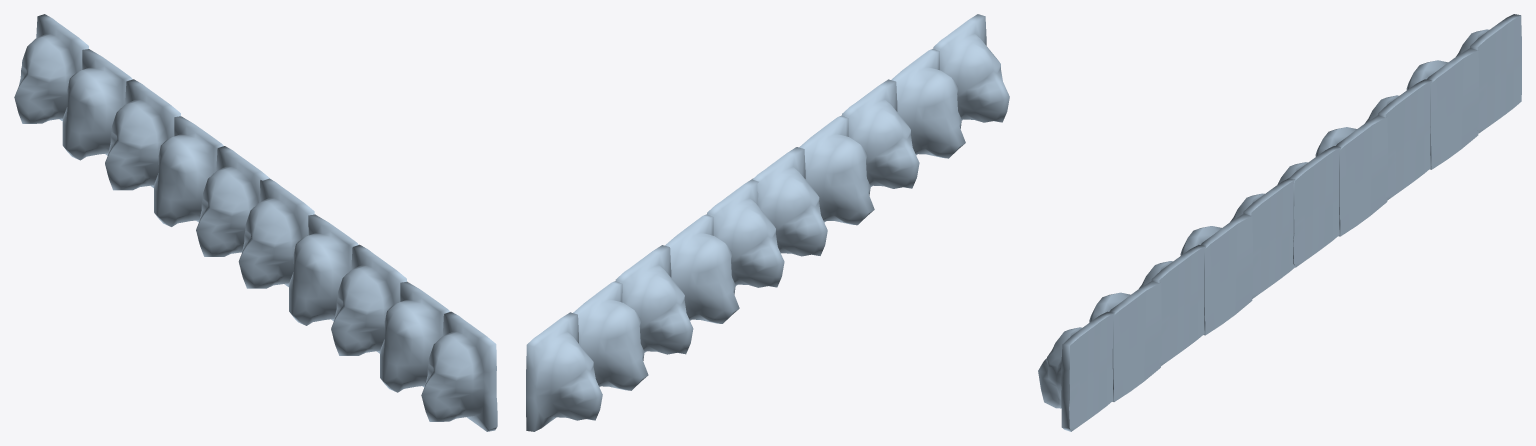
File: Statues_Lign_02B_Lod0.fbx
The picture shows the model from 3 angles, left to right: view 1: azimuth 30°, elevation 25°; view 2: azimuth 150°, elevation 25°; view 3: azimuth 330°, elevation 25°; orthographic projection.
Parts seen in each view (by area): view 1: Statues_Lign_02B_Lod0; view 2: Statues_Lign_02B_Lod0; view 3: Statues_Lign_02B_Lod0.
Boxes of the visible parts, x1,y1,x2,y2 form: Statues_Lign_02B_Lod0: [14, 14, 497, 431]; Statues_Lign_02B_Lod0: [526, 14, 1009, 431]; Statues_Lign_02B_Lod0: [1038, 14, 1521, 431].
Bounding box in the file's own units: 41.94 × 66.65 × 602.
